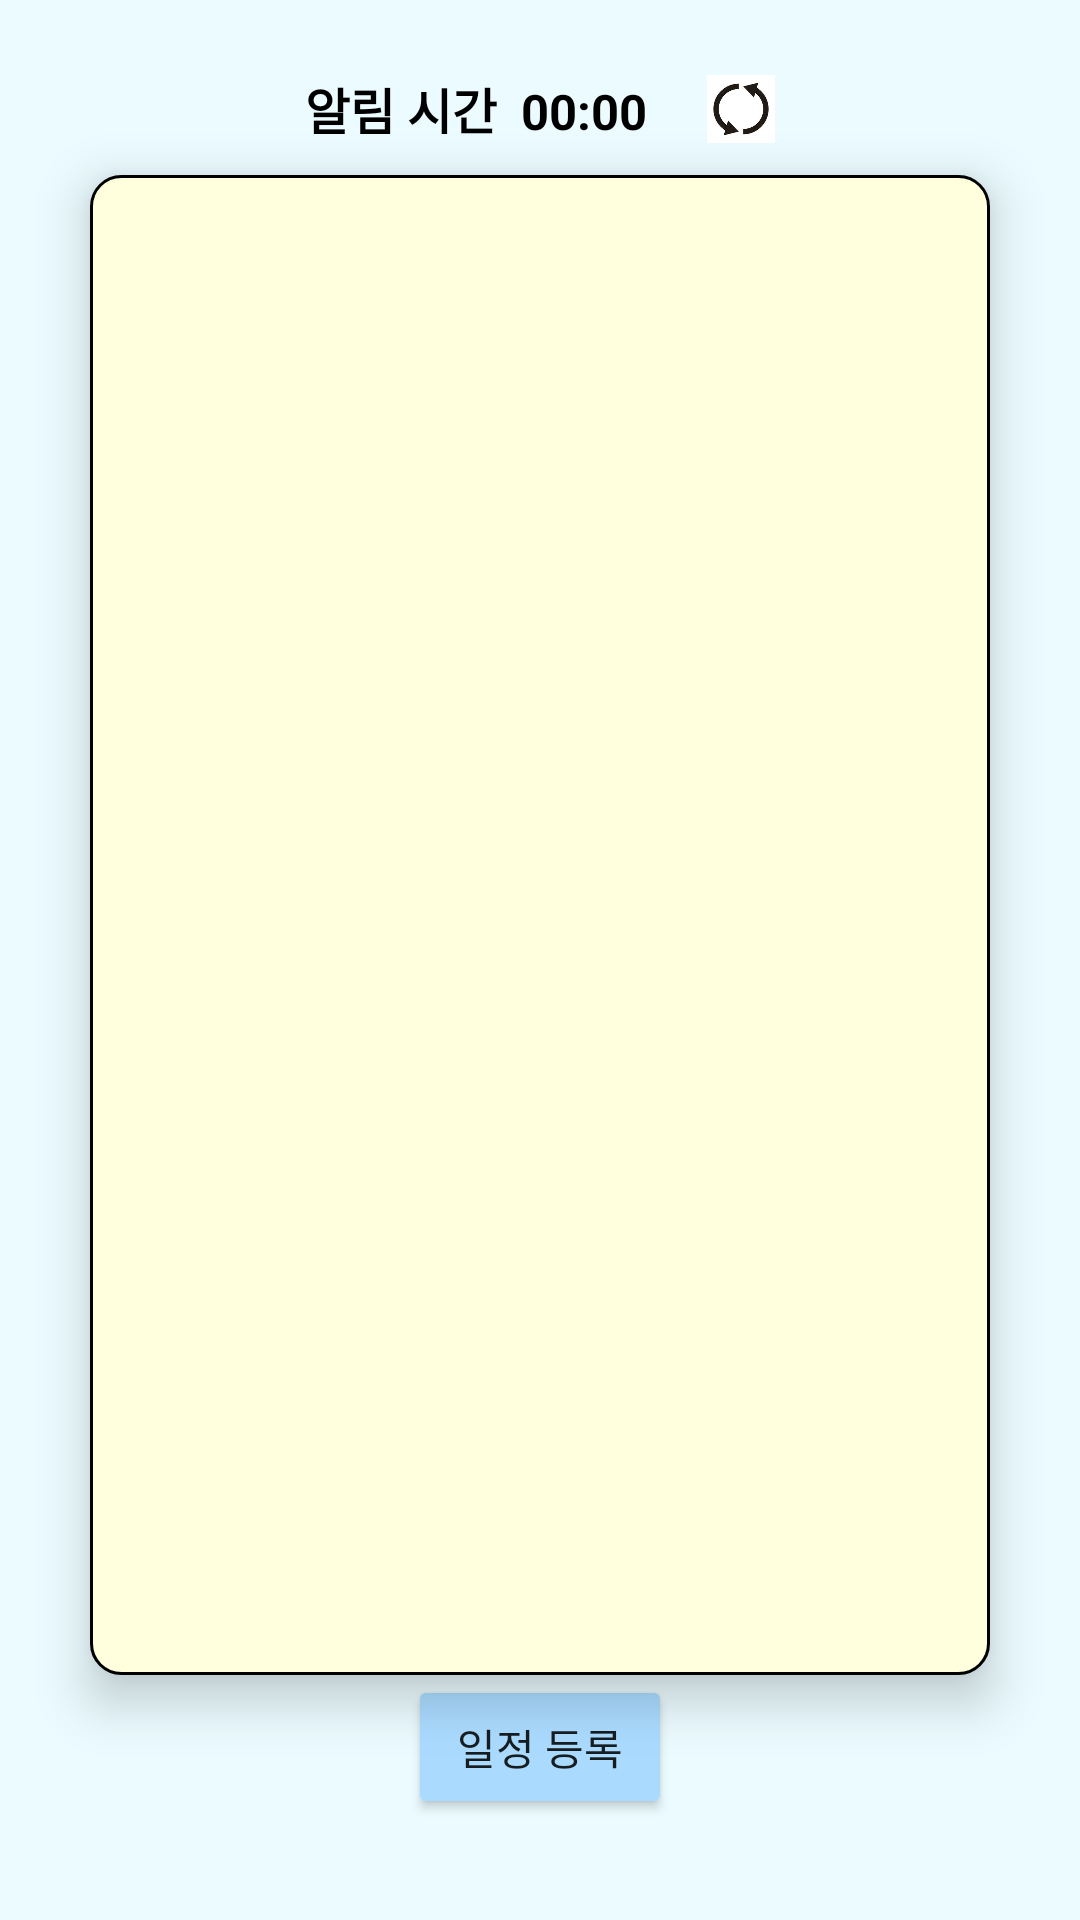

Icons on this 1080×1920 Android screen, each with the point to tap as (x=x, y=y):
rotate: (x=741, y=109)
